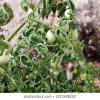Tomato leaf yellow virus: (35, 43, 50, 59), (20, 54, 33, 69), (36, 27, 50, 40), (72, 40, 80, 59), (29, 34, 44, 42), (30, 58, 40, 69)
